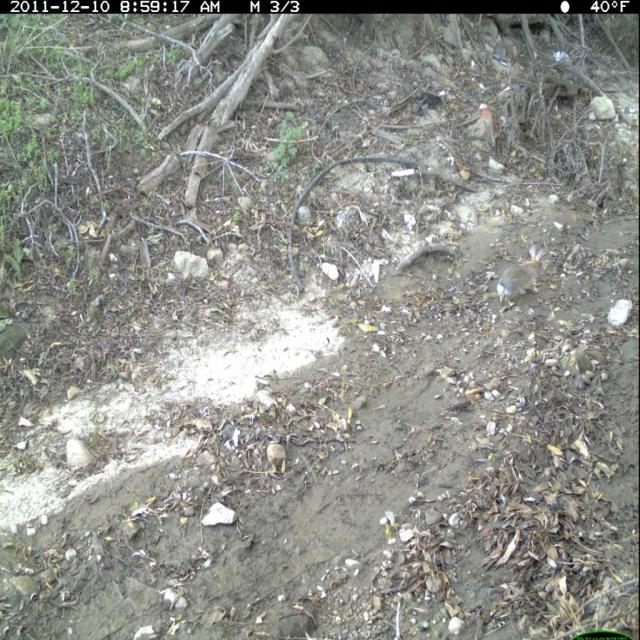rabbit: (495, 240, 551, 311)
